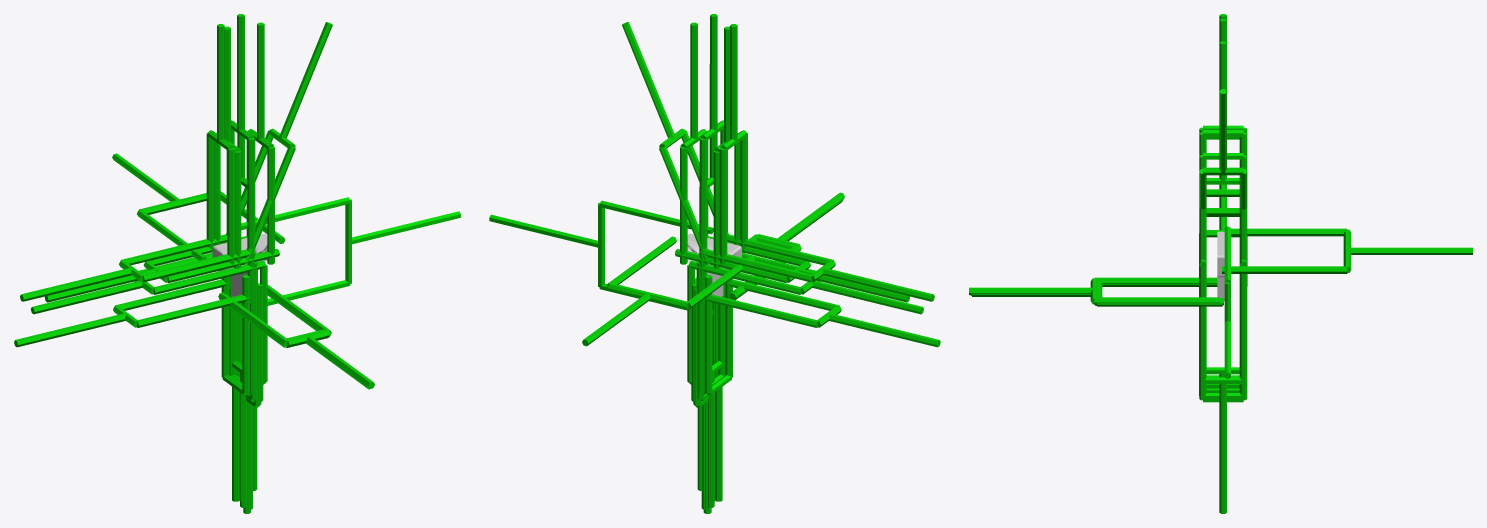
3 renders of one model, left to right at view 1: azimuth 30°, elevation 25°; view 2: azimuth 150°, elevation 25°; view 3: azimuth 270°, elevation 25°, orthographic.
Parts seen in each view (by area): view 1: world, 00375301_49c08c635f2d7a25b6bdf898_step_001_0001.obj; view 2: world, 00375301_49c08c635f2d7a25b6bdf898_step_001_0001.obj; view 3: world.
Part boxes in pixels (x1,y1,x2,y2): world: (14,14,460,513); 00375301_49c08c635f2d7a25b6bdf898_step_001_0001.obj: (212,233,267,296); world: (489,14,940,513); 00375301_49c08c635f2d7a25b6bdf898_step_001_0001.obj: (687,233,741,296); world: (969,14,1472,513).
Size of the model in its own units: 266 by 284 by 265.
